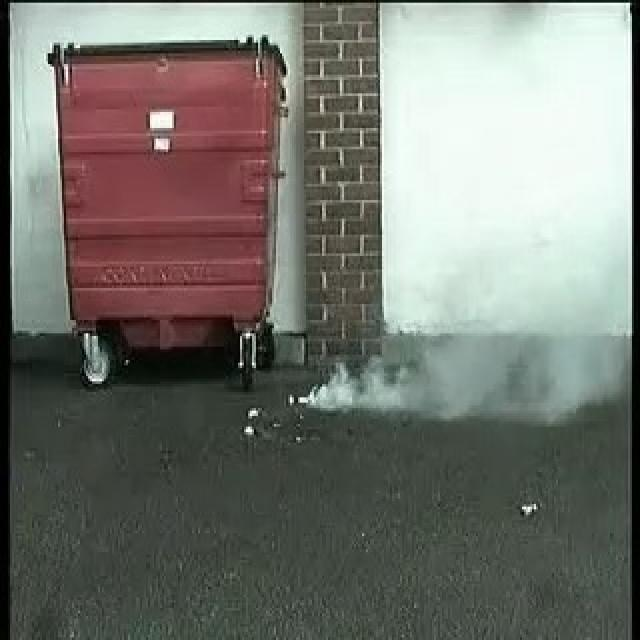smoke: (306, 333, 484, 409)
